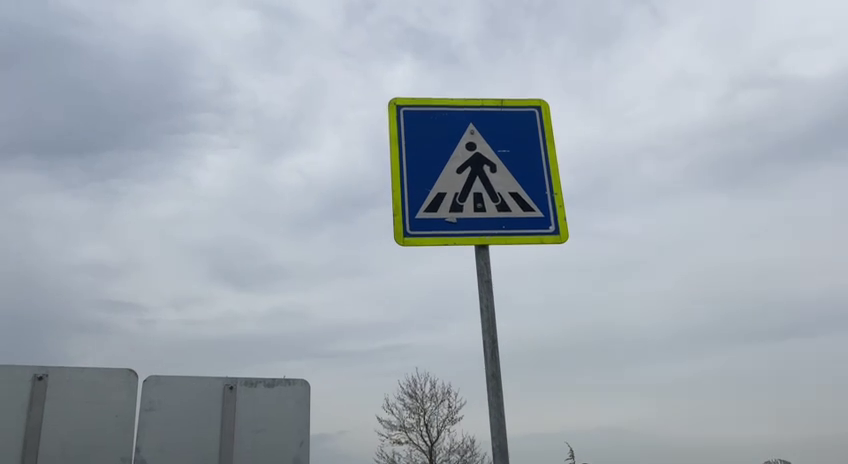pedestrianCrossing: (386, 94, 570, 248)
